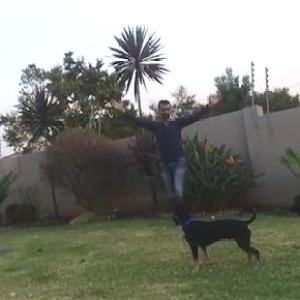takeoff: (100, 94, 219, 218)
